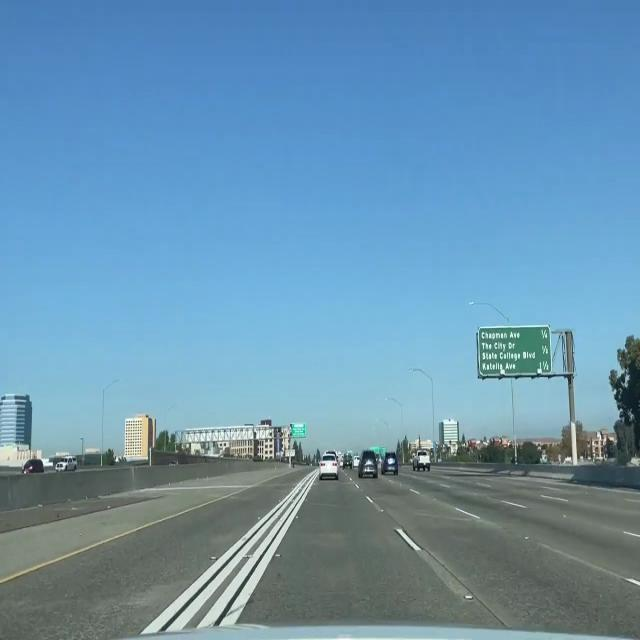street-signs: (478, 323, 553, 377), (292, 422, 306, 437), (370, 447, 380, 454), (380, 445, 385, 456)
